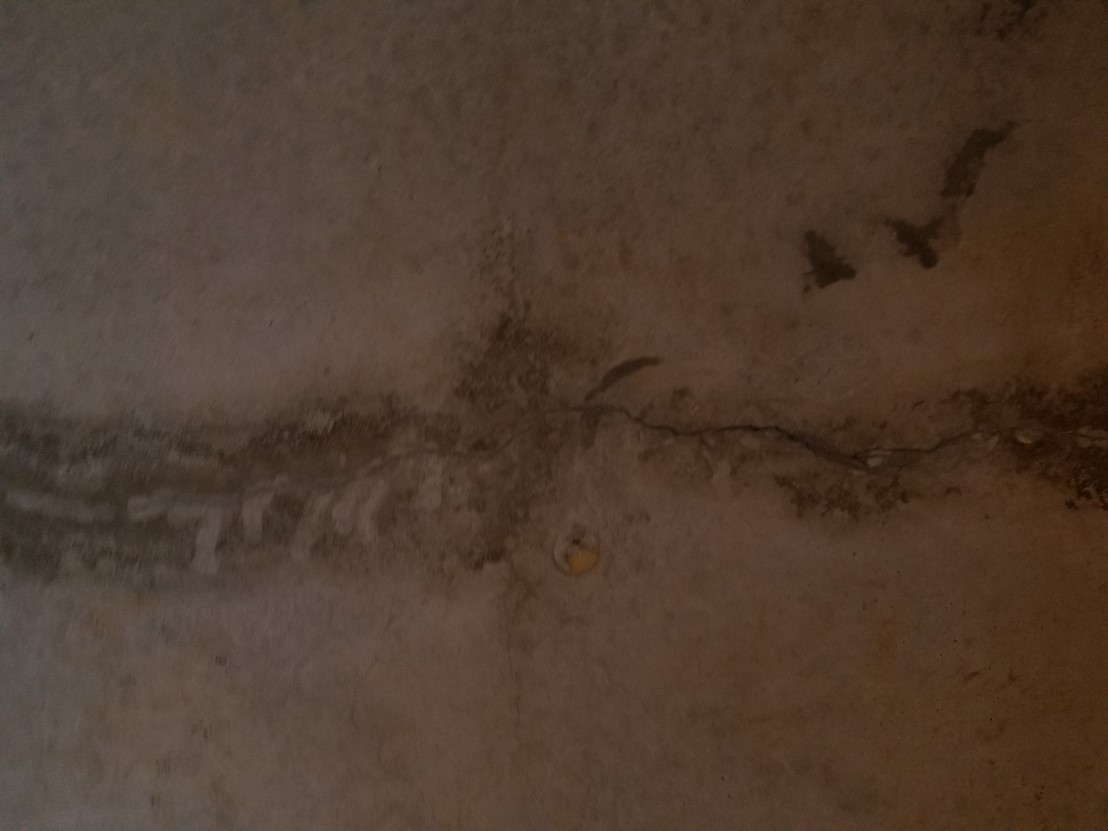Crack: (0, 365, 1106, 543)
